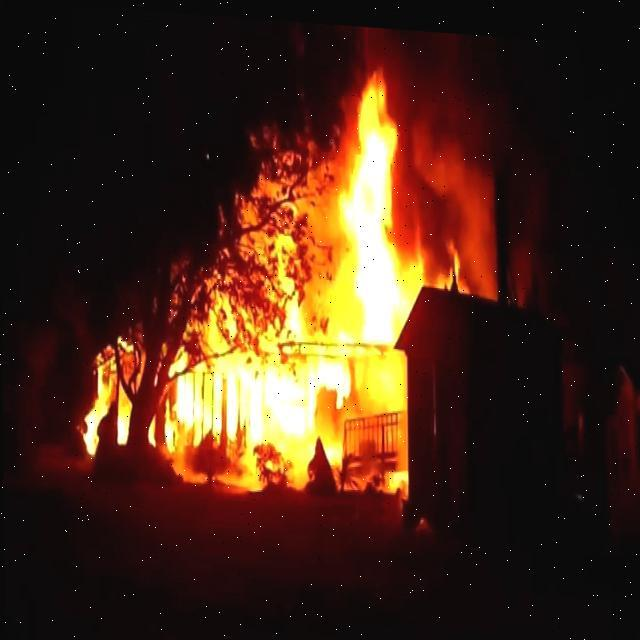Fire: (166, 50, 411, 488)
